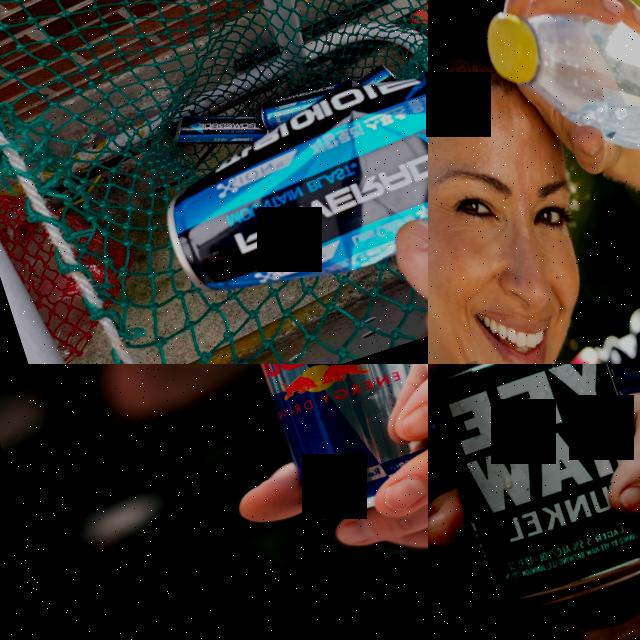bottle: (476, 0, 640, 236)
can: (428, 364, 640, 634), (224, 364, 428, 529)
